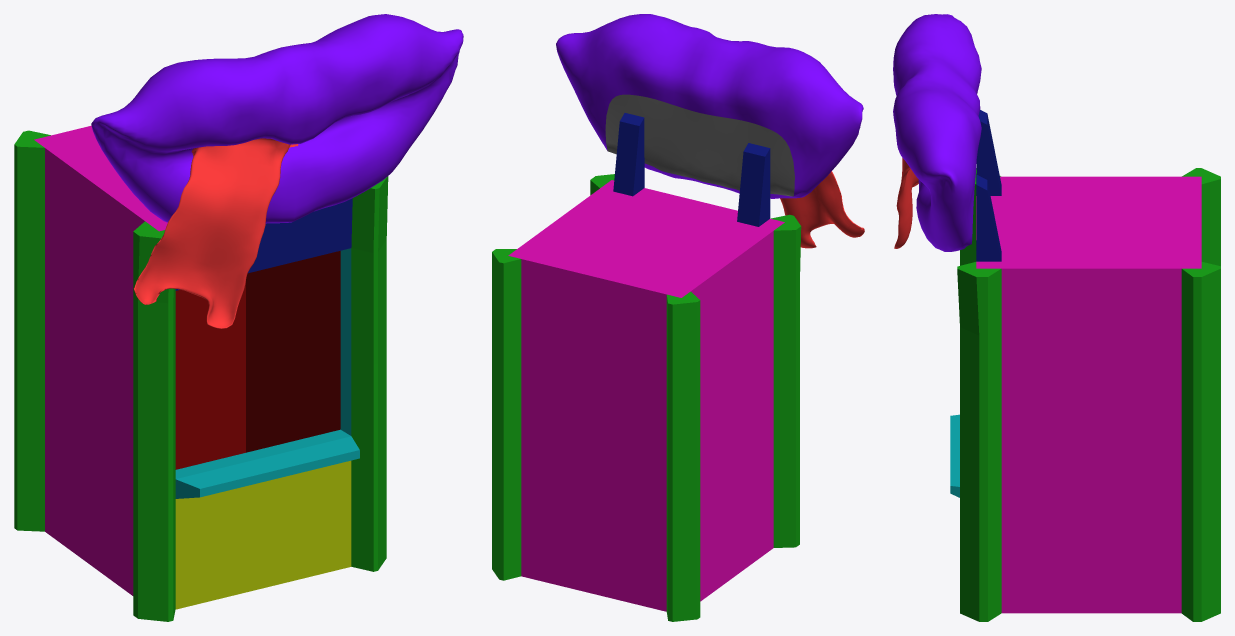
Rendered from TicketBooth_low.fbx.
3 views of the same model, side by side, from view 1: azimuth 30°, elevation 25°; view 2: azimuth 150°, elevation 25°; view 3: azimuth 270°, elevation 25° (orthographic). The views are drawn at different scales.
Parts seen in each view (by area): view 1: Booth_low, Lips_low, Ticket_low; view 2: Booth_low, Lips_low, Ticket_low; view 3: Booth_low, Lips_low, Ticket_low.
Boxes of the visible parts, x1,y1,x2,y2 form: Booth_low: [14, 125, 388, 621]; Lips_low: [91, 14, 463, 223]; Ticket_low: [134, 138, 298, 328]; Booth_low: [492, 113, 801, 621]; Lips_low: [556, 14, 863, 198]; Ticket_low: [780, 171, 864, 248]; Booth_low: [950, 109, 1220, 621]; Lips_low: [893, 14, 981, 251]; Ticket_low: [894, 158, 918, 248].
Bounding box in the file's own units: 138 × 202 × 118.
